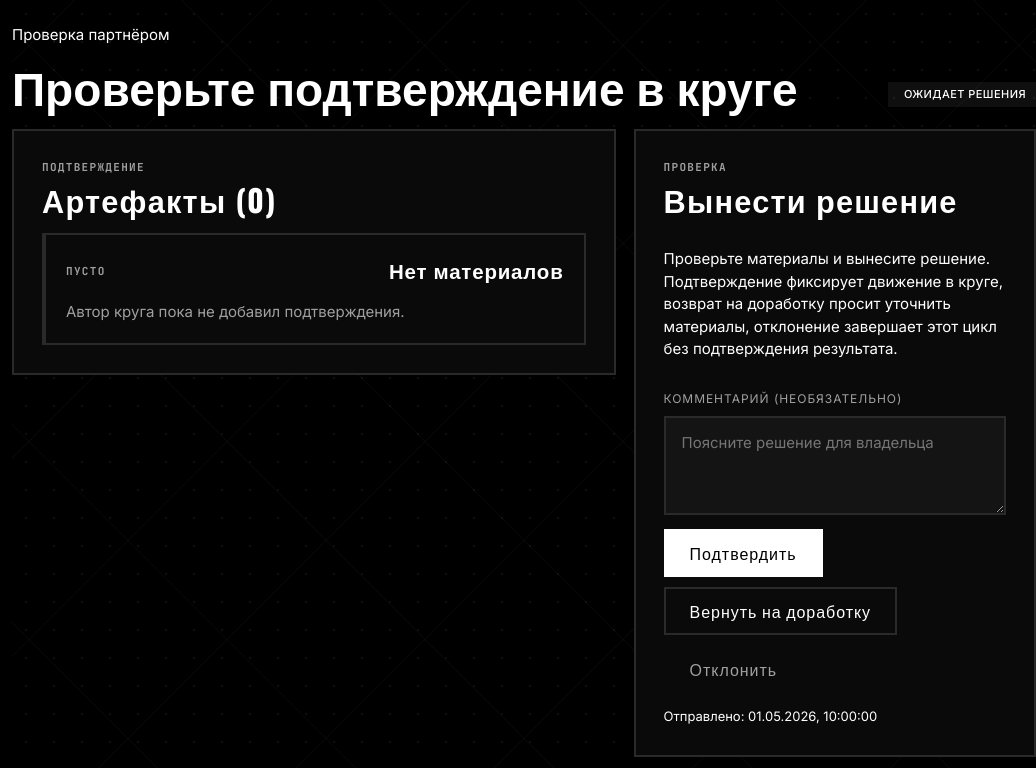
ApprovalPanel › shows rejected state after reject click
This screenshot has width=1036, height=768.
Click the button "Отклонить" at [733, 670], box [664,646,803,694]
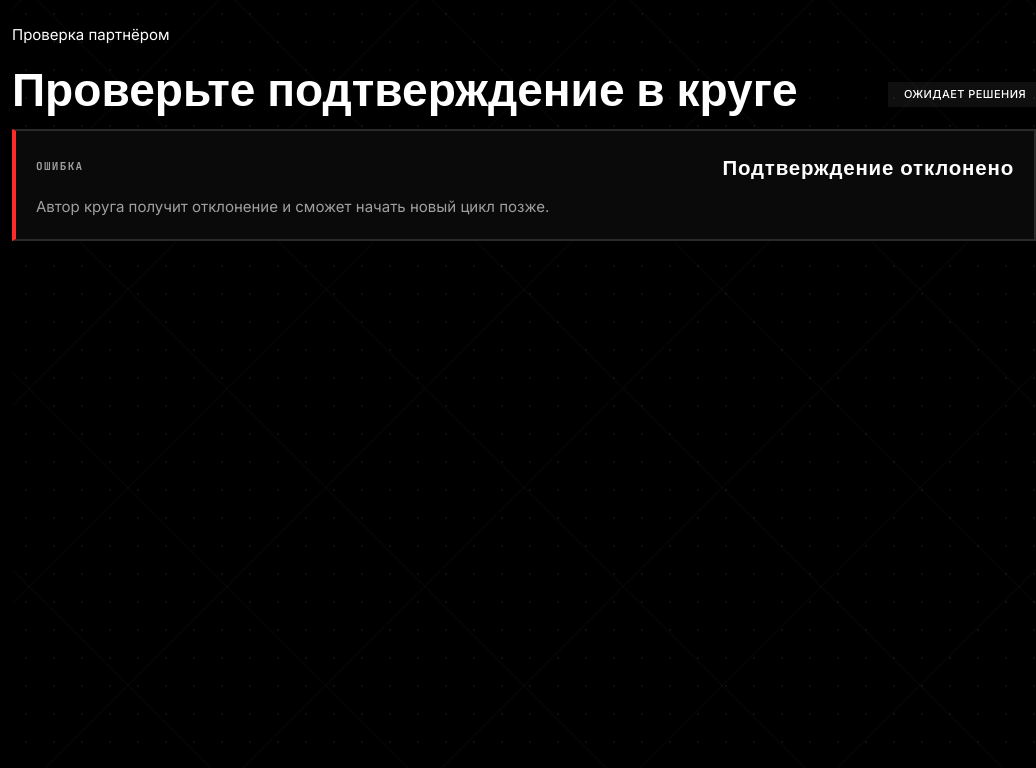
Now the heading "Подтверждение отклонено" is shown, box [722,151,1014,181]
